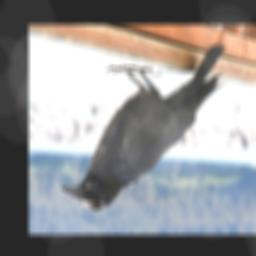Crow: (59, 43, 227, 212)
